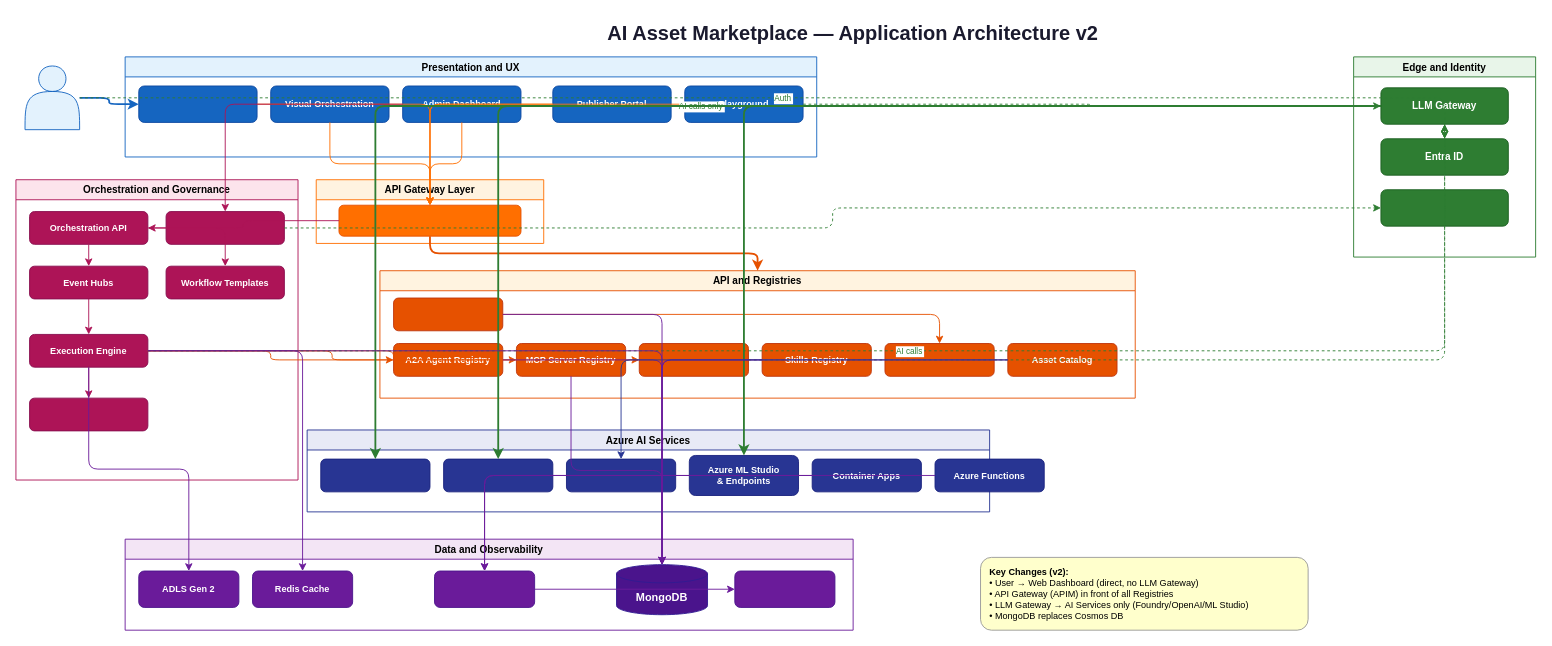
Some shapes in this 1552 by 646 pixel diagram are drawn without their labels. Each missing label, with the centre of its shape:
AI Search: (621,475)
App Insights: (484,588)
Azure API Management: (429,220)
Azure Foundry: (498,475)
Azure Monitor: (784,588)
Azure OpenAI: (375,475)
HITL Approval Gate: (88,414)
Key Vault: (1444,207)
MCP Gateway Proxy: (693,359)
Policy Engine: (224,227)
Publisher API: (448,314)
Security Scanner: (939,359)
Web Dashboard: (197,103)
👤 End User: (52,97)
